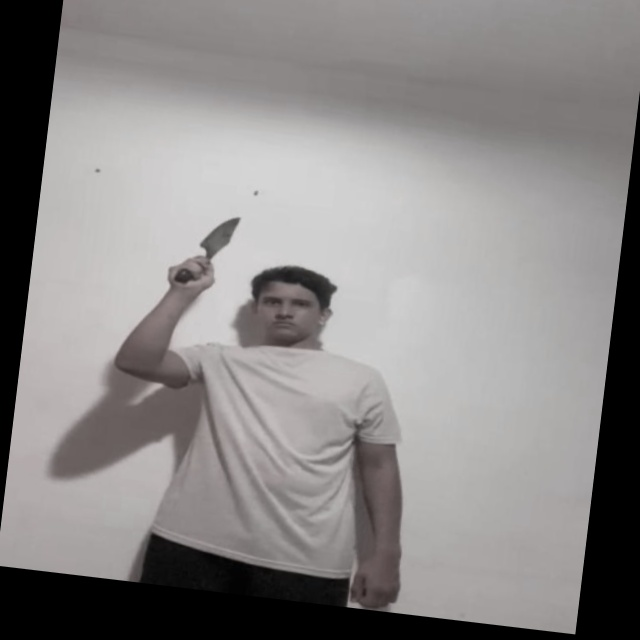Sharp-Object: (192, 212, 248, 262)
